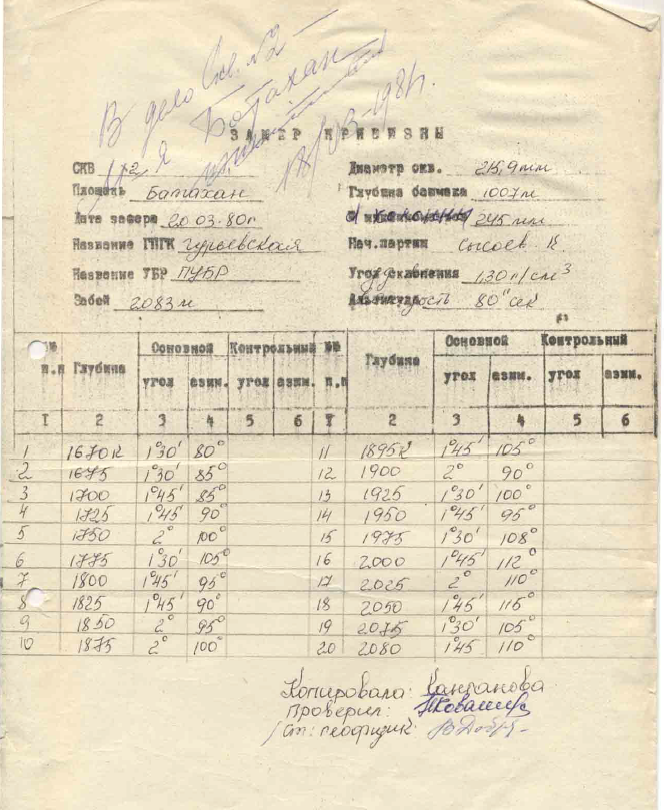Bordered: (8, 330, 657, 652)
